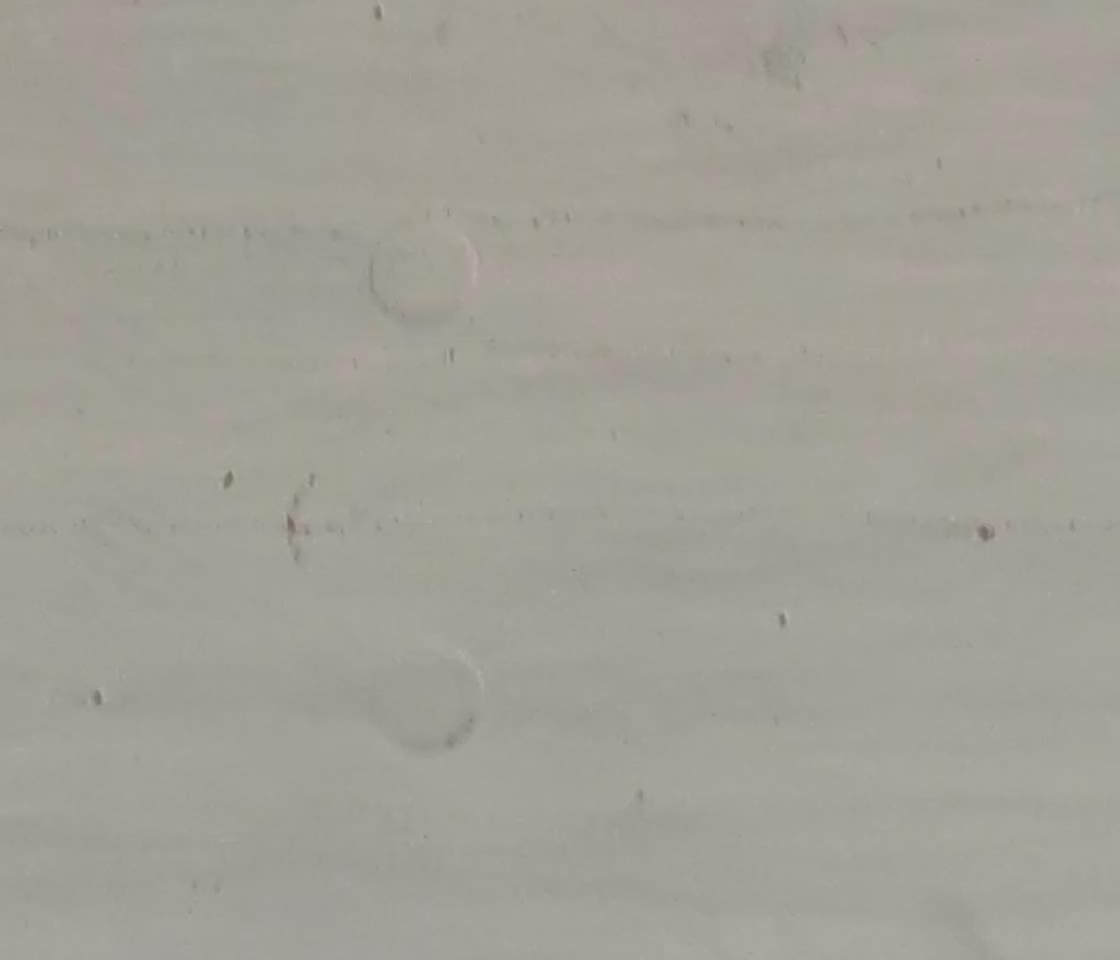scratch: (966, 517, 999, 549), (277, 512, 300, 552), (212, 467, 245, 494)
